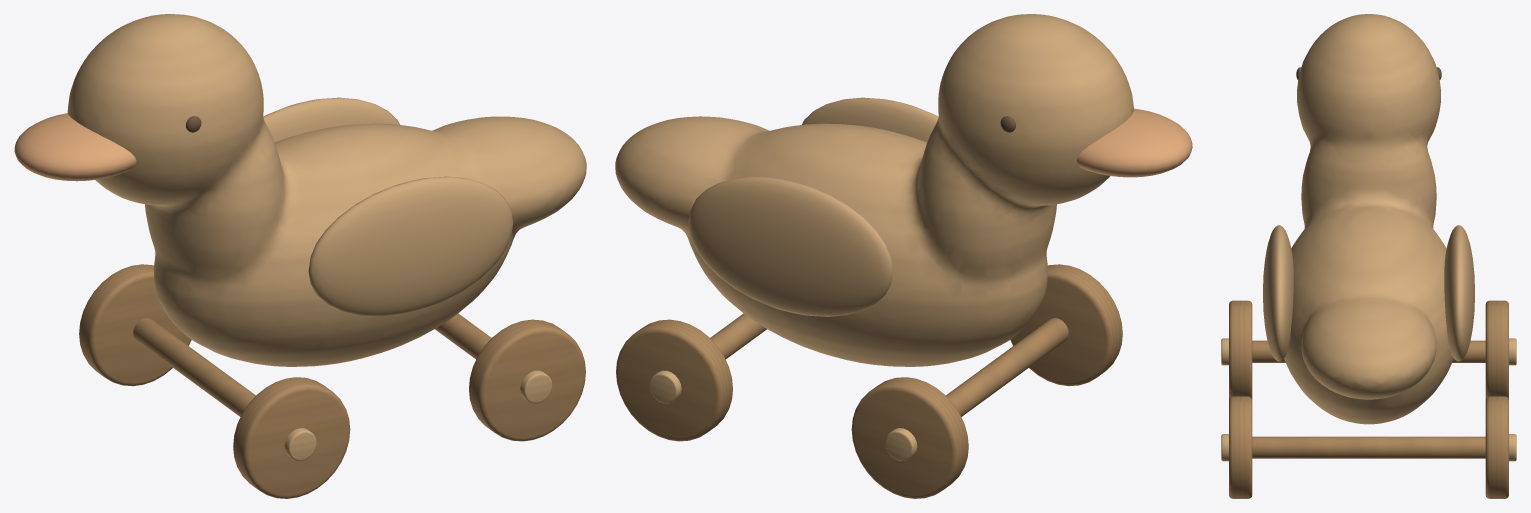
File: gift-02.522b766d8cbf.glb
3 views of the same model, side by side, from view 1: azimuth 30°, elevation 25°; view 2: azimuth 150°, elevation 25°; view 3: azimuth 270°, elevation 25° (orthographic). The views are drawn at different scales.
Parts seen in each view (by area): view 1: PART_GIFT_02_ROOT_MAT_honey_wood, Wood_wheel, Wood_wheel.002, Wood_wheel.001, Rounded_flat_apricot_beak, PART_GIFT_02_ROOT_MAT_walnut_wood, Round_hub.002, Round_hub; view 2: PART_GIFT_02_ROOT_MAT_honey_wood, Wood_wheel.001, Wood_wheel.003, Wood_wheel, Rounded_flat_apricot_beak, PART_GIFT_02_ROOT_MAT_walnut_wood, Round_hub.003, Round_hub.001; view 3: PART_GIFT_02_ROOT_MAT_honey_wood, PART_GIFT_02_ROOT_MAT_walnut_wood, Wood_wheel.002, Wood_wheel.003, Wood_wheel, Wood_wheel.001.
Part boxes in pixels (box(x1,y1,x2,y2)): PART_GIFT_02_ROOT_MAT_honey_wood: box(67, 14, 586, 366); Wood_wheel: box(233, 377, 350, 498); Wood_wheel.002: box(469, 319, 585, 441); Wood_wheel.001: box(79, 264, 191, 386); Rounded_flat_apricot_beak: box(14, 113, 136, 181); PART_GIFT_02_ROOT_MAT_walnut_wood: box(133, 313, 491, 416); Round_hub.002: box(520, 370, 552, 403); Round_hub: box(284, 428, 316, 460); PART_GIFT_02_ROOT_MAT_honey_wood: box(615, 14, 1133, 366); Wood_wheel.001: box(851, 377, 968, 498); Wood_wheel.003: box(616, 319, 732, 441); Wood_wheel: box(1010, 264, 1122, 386); Rounded_flat_apricot_beak: box(1076, 108, 1192, 177); PART_GIFT_02_ROOT_MAT_walnut_wood: box(710, 313, 1068, 416); Round_hub.003: box(649, 370, 681, 403); Round_hub.001: box(885, 428, 917, 460); PART_GIFT_02_ROOT_MAT_honey_wood: box(1263, 14, 1474, 424); PART_GIFT_02_ROOT_MAT_walnut_wood: box(1252, 340, 1485, 458); Wood_wheel.002: box(1229, 396, 1252, 498); Wood_wheel.003: box(1485, 396, 1508, 498); Wood_wheel: box(1229, 300, 1252, 399); Wood_wheel.001: box(1485, 300, 1508, 399).
Size of the model in its own units: 0.1257 by 0.0918 by 0.069.
4 materials, 2 textured.
